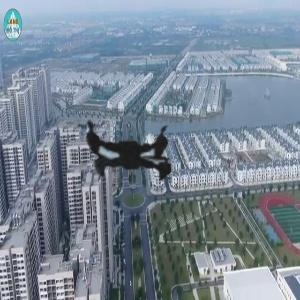drone: (1, 22, 267, 288)
